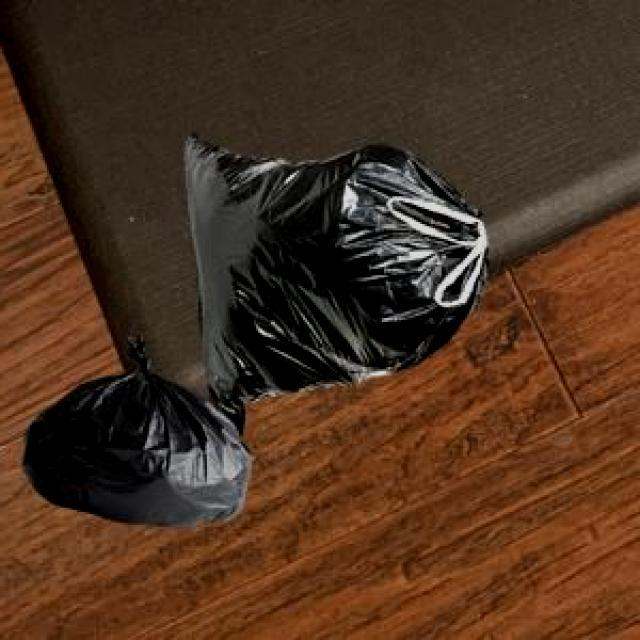Trashbag: (180, 135, 492, 410), (19, 367, 251, 527)
